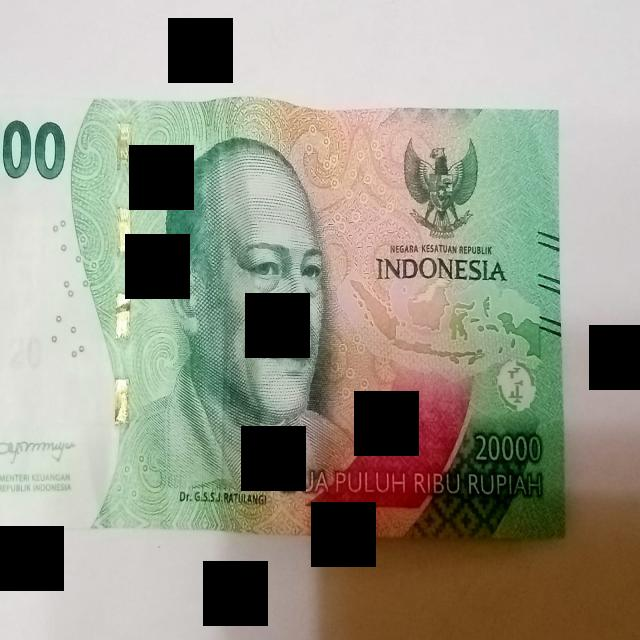dua puluh ribu rupiah: (0, 98, 565, 538)
